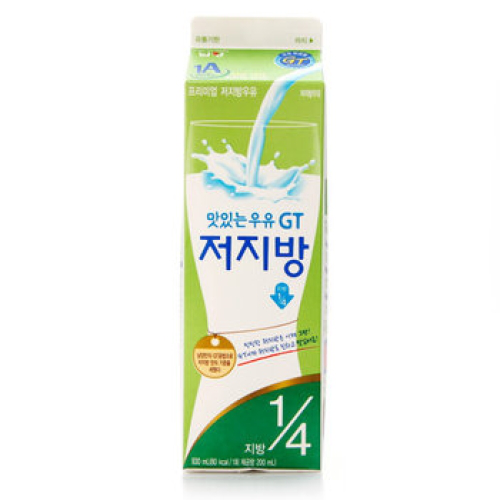milk: (183, 16, 327, 474)
